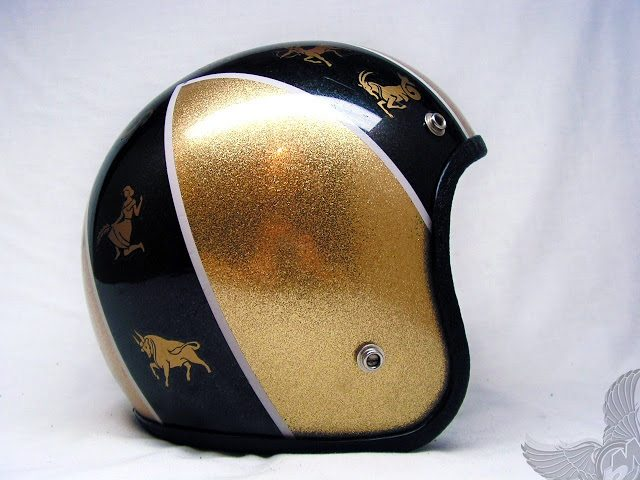with_helmet: (86, 35, 488, 450)
